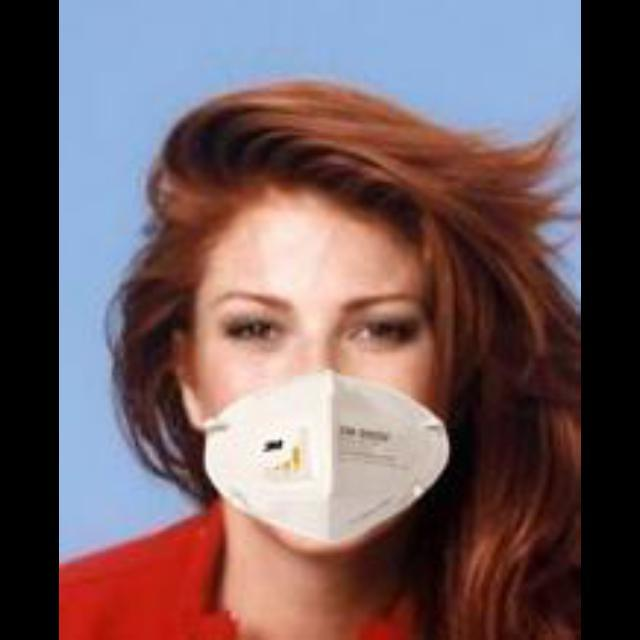suspicion: (158, 129, 482, 531)
